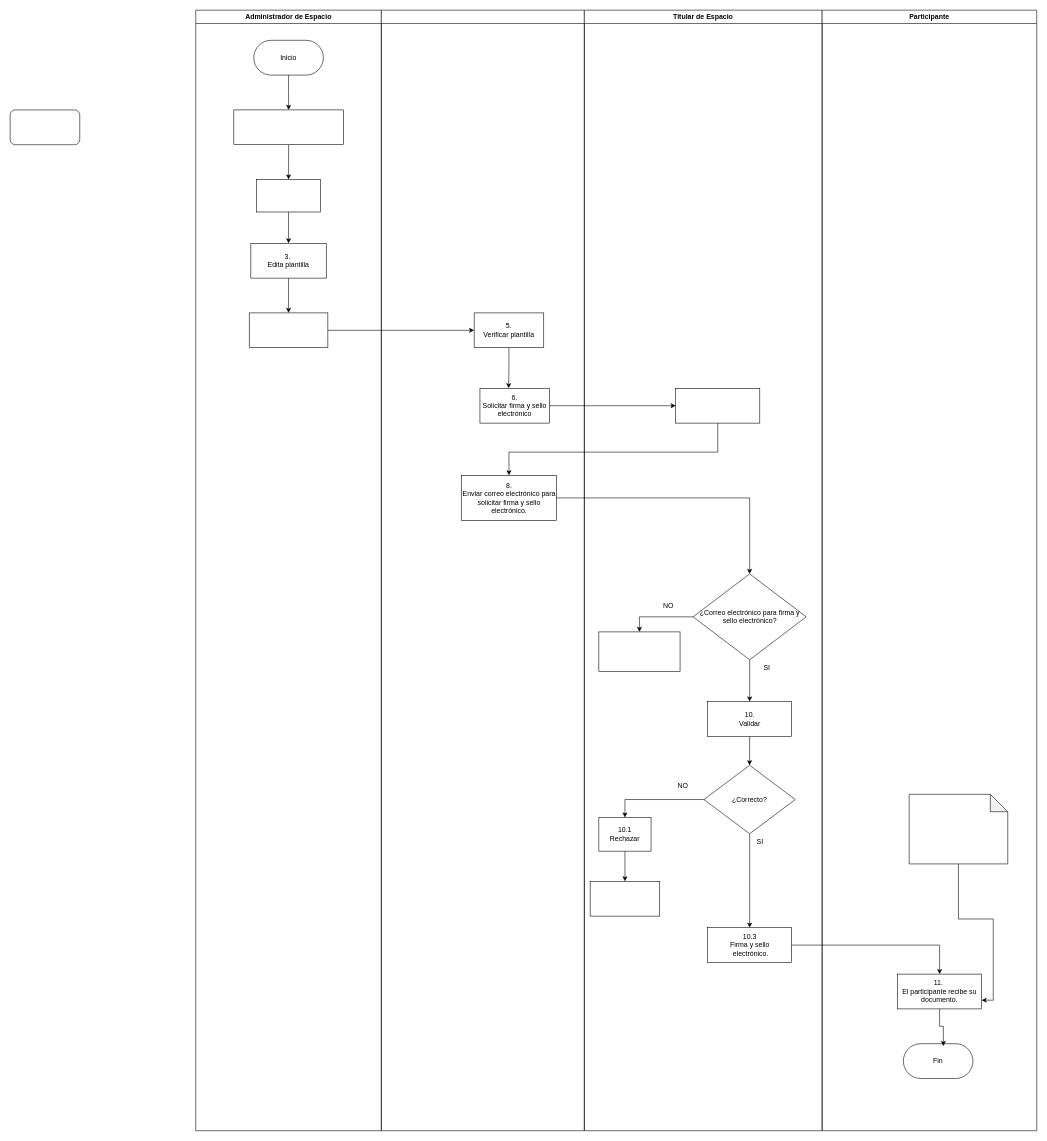
Image size: 1047x1141. Some labels were removed from this diagram. Here are the shapes that lost their labels. From the top down, the box of each, then its label:
(233, 109, 343, 145): 1. Accede al sistema SICODI: Correo y contraseña institucional
(256, 179, 320, 212): 2. Crea y nombrar plantilla
(249, 312, 328, 348): 4. Importar datos de participantes
(675, 388, 760, 423): 7. Visualizar las plantillas que solicitan firma y sello electrónico
(381, 10, 584, 1131): Responsable del Área
(598, 631, 680, 671): 9. Esperar correo electrónico del responsable de área
(909, 794, 1008, 864): Documento puede ser: Constancias, Nombramiento, Cumplimiento, entre otros.
(590, 881, 660, 916): 10.2 Paso 2
